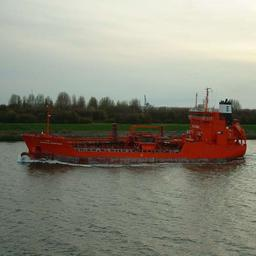Ship: (22, 112, 251, 170)
